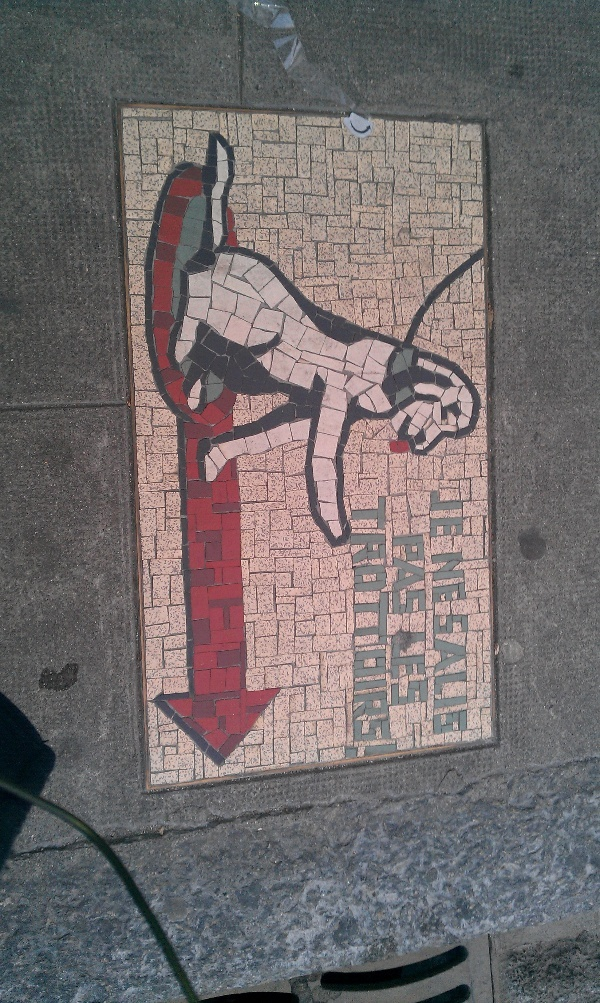text: (353, 496, 368, 760), (369, 496, 384, 760), (385, 496, 399, 760), (449, 614, 464, 736), (434, 614, 448, 736), (401, 534, 416, 614), (401, 632, 416, 706), (417, 632, 428, 706), (417, 534, 427, 614), (433, 551, 448, 603), (449, 551, 464, 603), (433, 488, 448, 539), (449, 488, 464, 539), (391, 534, 400, 614), (391, 632, 400, 706), (465, 614, 469, 736), (351, 496, 352, 760), (429, 488, 432, 539), (465, 551, 467, 603), (431, 551, 432, 603)
